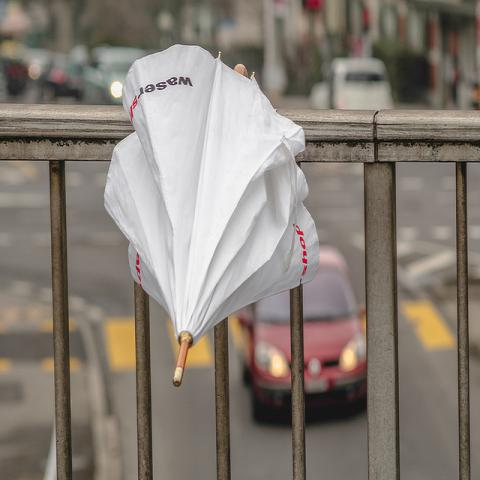car: (228, 242, 367, 426), (306, 58, 394, 110), (80, 45, 150, 105)
